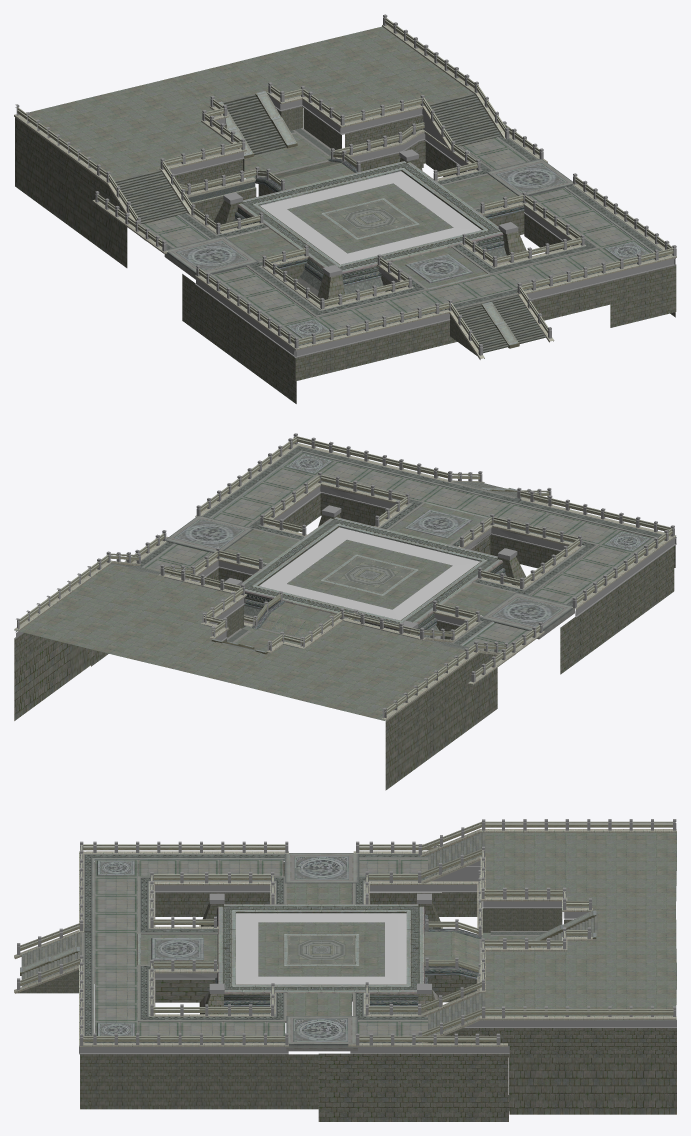
The picture shows the model from 3 angles, top to bottom: view 1: azimuth 30°, elevation 25°; view 2: azimuth 150°, elevation 25°; view 3: azimuth 270°, elevation 25°; orthographic projection. The views are drawn at different scales.
Parts seen in each view (by area): view 1: z_jz_dm_01, z_jz_dm_04, z_jz_dm_02, z_jz_dm_05, z_jz_dm_07, z_jz_dm_06, z_jz_dm_03; view 2: z_jz_dm_01, z_jz_dm_02, z_jz_dm_04, z_jz_dm_05, z_jz_dm_06, z_jz_dm_07, z_jz_dm_03; view 3: z_jz_dm_01, z_jz_dm_02, z_jz_dm_04, z_jz_dm_07, z_jz_dm_05, z_jz_dm_06, z_jz_dm_03, z_jz_dm_09.
Boxes of the visible parts, x1=… form: z_jz_dm_01: x1=14, y1=25, x2=676, y2=403; z_jz_dm_04: x1=114, y1=93, x2=669, y2=353; z_jz_dm_02: x1=17, y1=18, x2=673, y2=349; z_jz_dm_05: x1=15, y1=14, x2=676, y2=355; z_jz_dm_07: x1=170, y1=95, x2=676, y2=357; z_jz_dm_06: x1=260, y1=171, x2=481, y2=264; z_jz_dm_03: x1=223, y1=149, x2=518, y2=276; z_jz_dm_01: x1=14, y1=443, x2=676, y2=790; z_jz_dm_02: x1=17, y1=436, x2=672, y2=714; z_jz_dm_04: x1=110, y1=445, x2=669, y2=683; z_jz_dm_05: x1=16, y1=433, x2=674, y2=718; z_jz_dm_06: x1=259, y1=527, x2=480, y2=620; z_jz_dm_07: x1=15, y1=485, x2=676, y2=647; z_jz_dm_03: x1=224, y1=505, x2=517, y2=632; z_jz_dm_01: x1=14, y1=829, x2=676, y2=1121; z_jz_dm_02: x1=20, y1=821, x2=673, y2=1041; z_jz_dm_04: x1=21, y1=832, x2=597, y2=1051; z_jz_dm_07: x1=79, y1=860, x2=676, y2=1054; z_jz_dm_05: x1=17, y1=819, x2=676, y2=1045; z_jz_dm_06: x1=236, y1=913, x2=406, y2=984; z_jz_dm_03: x1=209, y1=893, x2=431, y2=993; z_jz_dm_09: x1=432, y1=867, x2=480, y2=881.
Size of the model in its own units: 4054 by 1088 by 5839.
